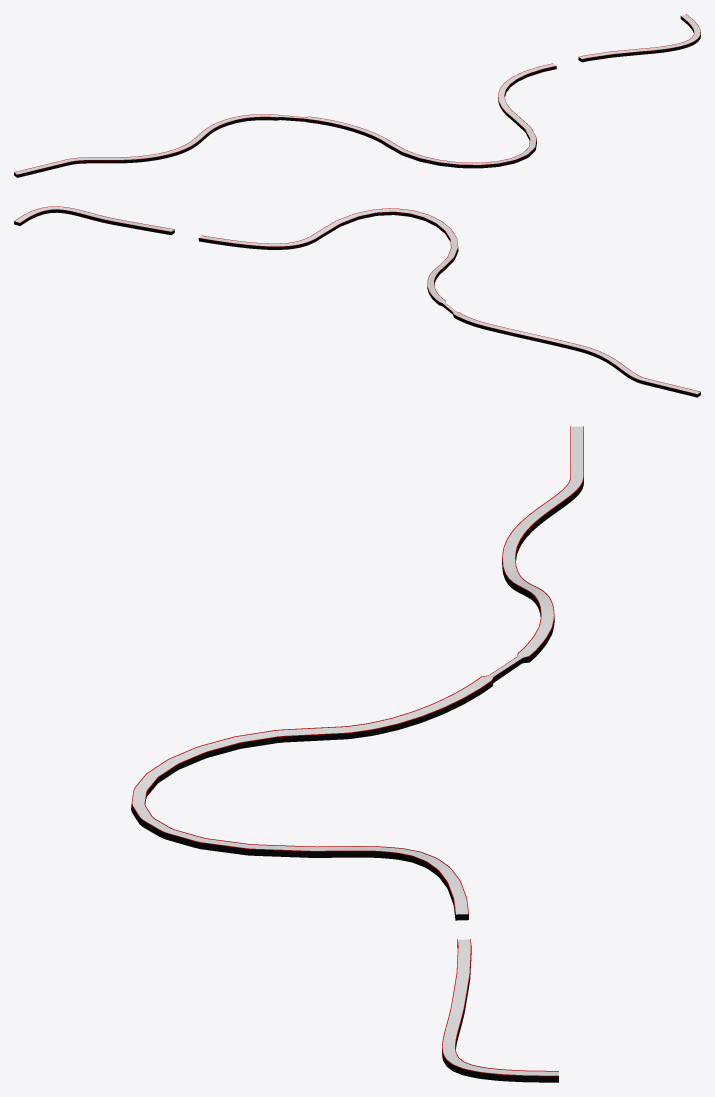
File: road_5.fbx
The picture shows the model from 3 angles, top to bottom: view 1: azimuth 30°, elevation 25°; view 2: azimuth 150°, elevation 25°; view 3: azimuth 270°, elevation 25°; orthographic projection. The views are drawn at different scales.
Visible parts, largest first — view 1: 3.003, 3.004, 3.005, 3.002; view 2: 3.003, 3.004, 3.005, 3.002; view 3: 3.003, 3.005, 3.004.
Boxes of the visible parts, x1=… form: 3.003: x1=14, y1=63, x2=556, y2=177; 3.004: x1=14, y1=63, x2=555, y2=174; 3.005: x1=578, y1=14, x2=700, y2=62; 3.002: x1=579, y1=14, x2=700, y2=59; 3.003: x1=198, y1=208, x2=700, y2=397; 3.004: x1=199, y1=208, x2=700, y2=394; 3.005: x1=14, y1=206, x2=174, y2=235; 3.002: x1=14, y1=206, x2=174, y2=231; 3.003: x1=131, y1=426, x2=583, y2=920; 3.005: x1=442, y1=939, x2=558, y2=1082; 3.004: x1=131, y1=426, x2=583, y2=914.
Size of the model in its own units: 14806 by 295 by 4357.
